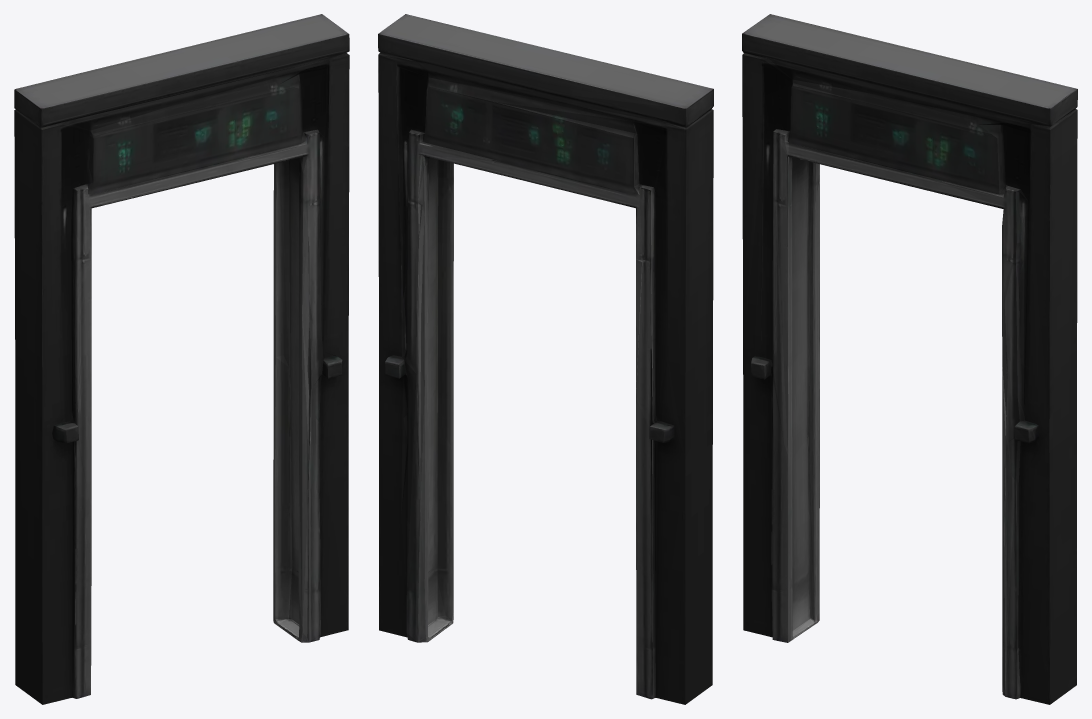
Rendered from metal-doorway.glb.
3 renders of one model, left to right at view 1: azimuth 30°, elevation 25°; view 2: azimuth 150°, elevation 25°; view 3: azimuth 330°, elevation 25°, orthographic.
Parts seen in each view (by area): view 1: geometry_0; view 2: geometry_0; view 3: geometry_0.
Part boxes in pixels (left/top/right/bottom): geometry_0: left=14, top=14, right=349, bottom=704; geometry_0: left=378, top=14, right=713, bottom=704; geometry_0: left=742, top=14, right=1077, bottom=704.
Size of the model in its own units: 0.5402 by 1 by 0.1303.
Materials: 1 (1 with a texture image).
